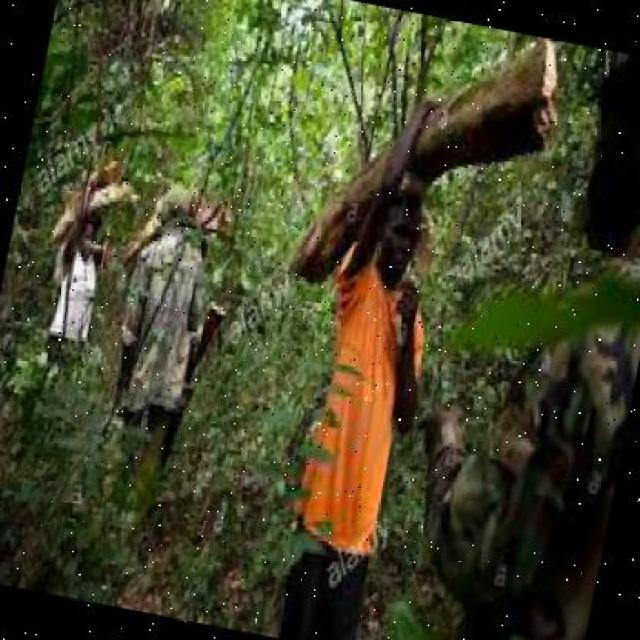poacher: (249, 222, 478, 548)
